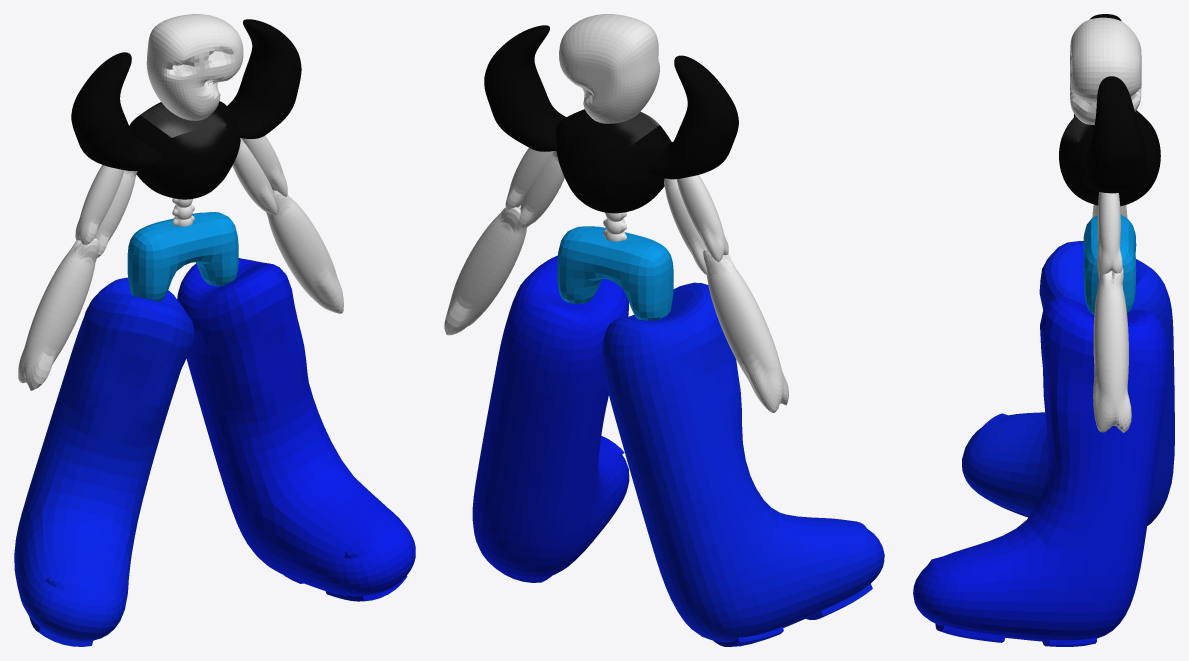
3 views of the same model, side by side, from view 1: azimuth 30°, elevation 25°; view 2: azimuth 150°, elevation 25°; view 3: azimuth 270°, elevation 25° (orthographic). The views are drawn at different scales.
Visible parts, largest first — view 1: Cube.006, Cube.005, Cube.013, Cube, Cube.004, Cube.014, Cube.015, Cube.009, Cube.010, Cube.008, Cube.012, Cube.007 (+1 smaller); view 2: Cube.005, Cube.006, Cube, Cube.013, Cube.004, Cube.015, Cube.014, Cube.009, Cube.010, Cube.008, Cube.012, Cube.007 (+1 smaller); view 3: Cube.006, Cube.005, Cube.013, Cube.015, Cube.010, Cube, Cube.004, Cube.011.
Boxes of the visible parts, <box> form: Cube.006: <box>177,258,415,601</box>; Cube.005: <box>14,277,194,646</box>; Cube.013: <box>146,14,243,120</box>; Cube: <box>129,101,240,199</box>; Cube.004: <box>127,212,238,301</box>; Cube.014: <box>71,52,162,171</box>; Cube.015: <box>227,19,301,138</box>; Cube.009: <box>18,238,100,390</box>; Cube.010: <box>266,190,343,313</box>; Cube.008: <box>75,165,123,244</box>; Cube.012: <box>232,138,277,214</box>; Cube.007: <box>94,170,137,258</box>; Cube.005: <box>602,282,884,646</box>; Cube.006: <box>472,255,629,582</box>; Cube: <box>556,109,671,213</box>; Cube.013: <box>559,14,659,123</box>; Cube.004: <box>557,226,673,320</box>; Cube.015: <box>484,25,565,151</box>; Cube.014: <box>649,55,738,179</box>; Cube.009: <box>703,249,788,412</box>; Cube.010: <box>444,205,527,335</box>; Cube.008: <box>676,175,728,261</box>; Cube.012: <box>517,150,564,229</box>; Cube.007: <box>664,178,707,274</box>; Cube.006: <box>913,297,1168,646</box>; Cube.005: <box>962,241,1174,525</box>; Cube.013: <box>1070,17,1141,124</box>; Cube.015: <box>1080,76,1146,193</box>; Cube.010: <box>1093,266,1131,432</box>; Cube: <box>1059,110,1160,206</box>; Cube.004: <box>1083,215,1136,314</box>; Cube.011: <box>1097,192,1122,274</box>.
Size of the model in its own units: 686 by 1035 by 431.
13 materials, 3 textured.
